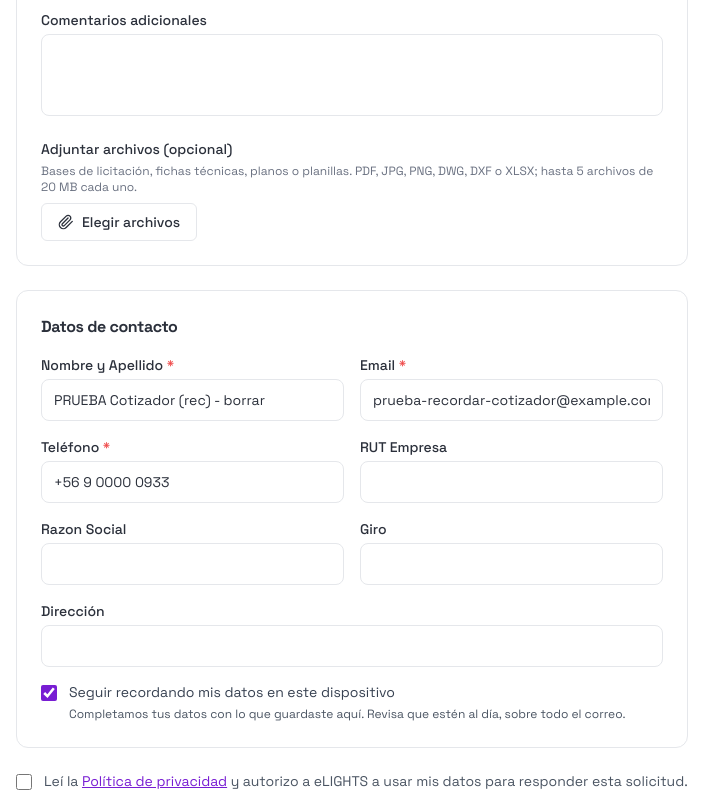
Test case: /cotizador: recordar mis datos › cambiar el correo completado desmarca y borra, con su aviso
The image size is (705, 792).
(page scrolled)
Expected: the field labelled "Nombre y Apellido *" is enabled, [41, 379, 344, 421]
Step 1. Replace the text in the field labelled "Email *" with "prueba-otra@example.com" → [512, 400], box [360, 379, 663, 421]
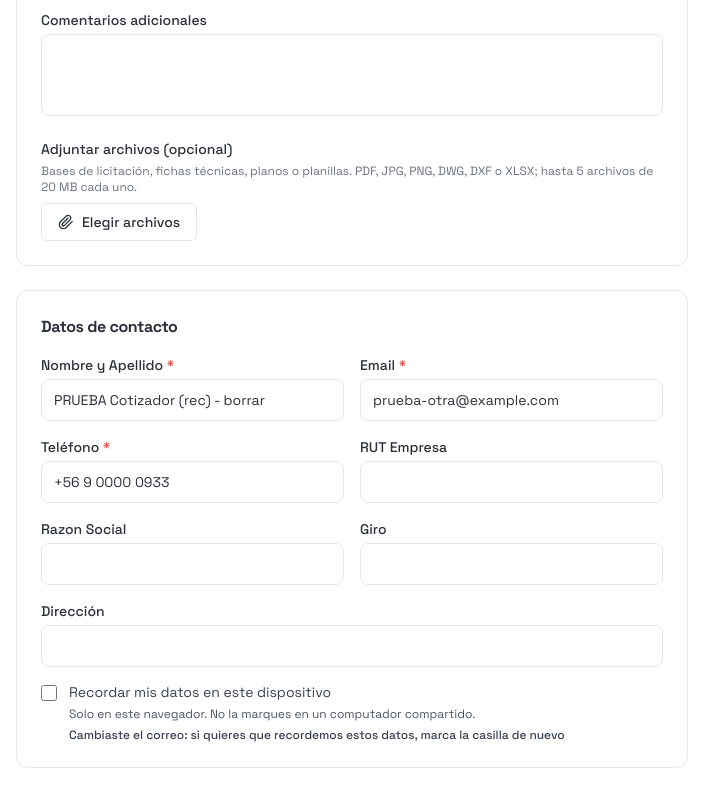
Result: the checkbox labelled "Recordar mis datos en este dispositivo" is not checked at [41, 685, 57, 701]
